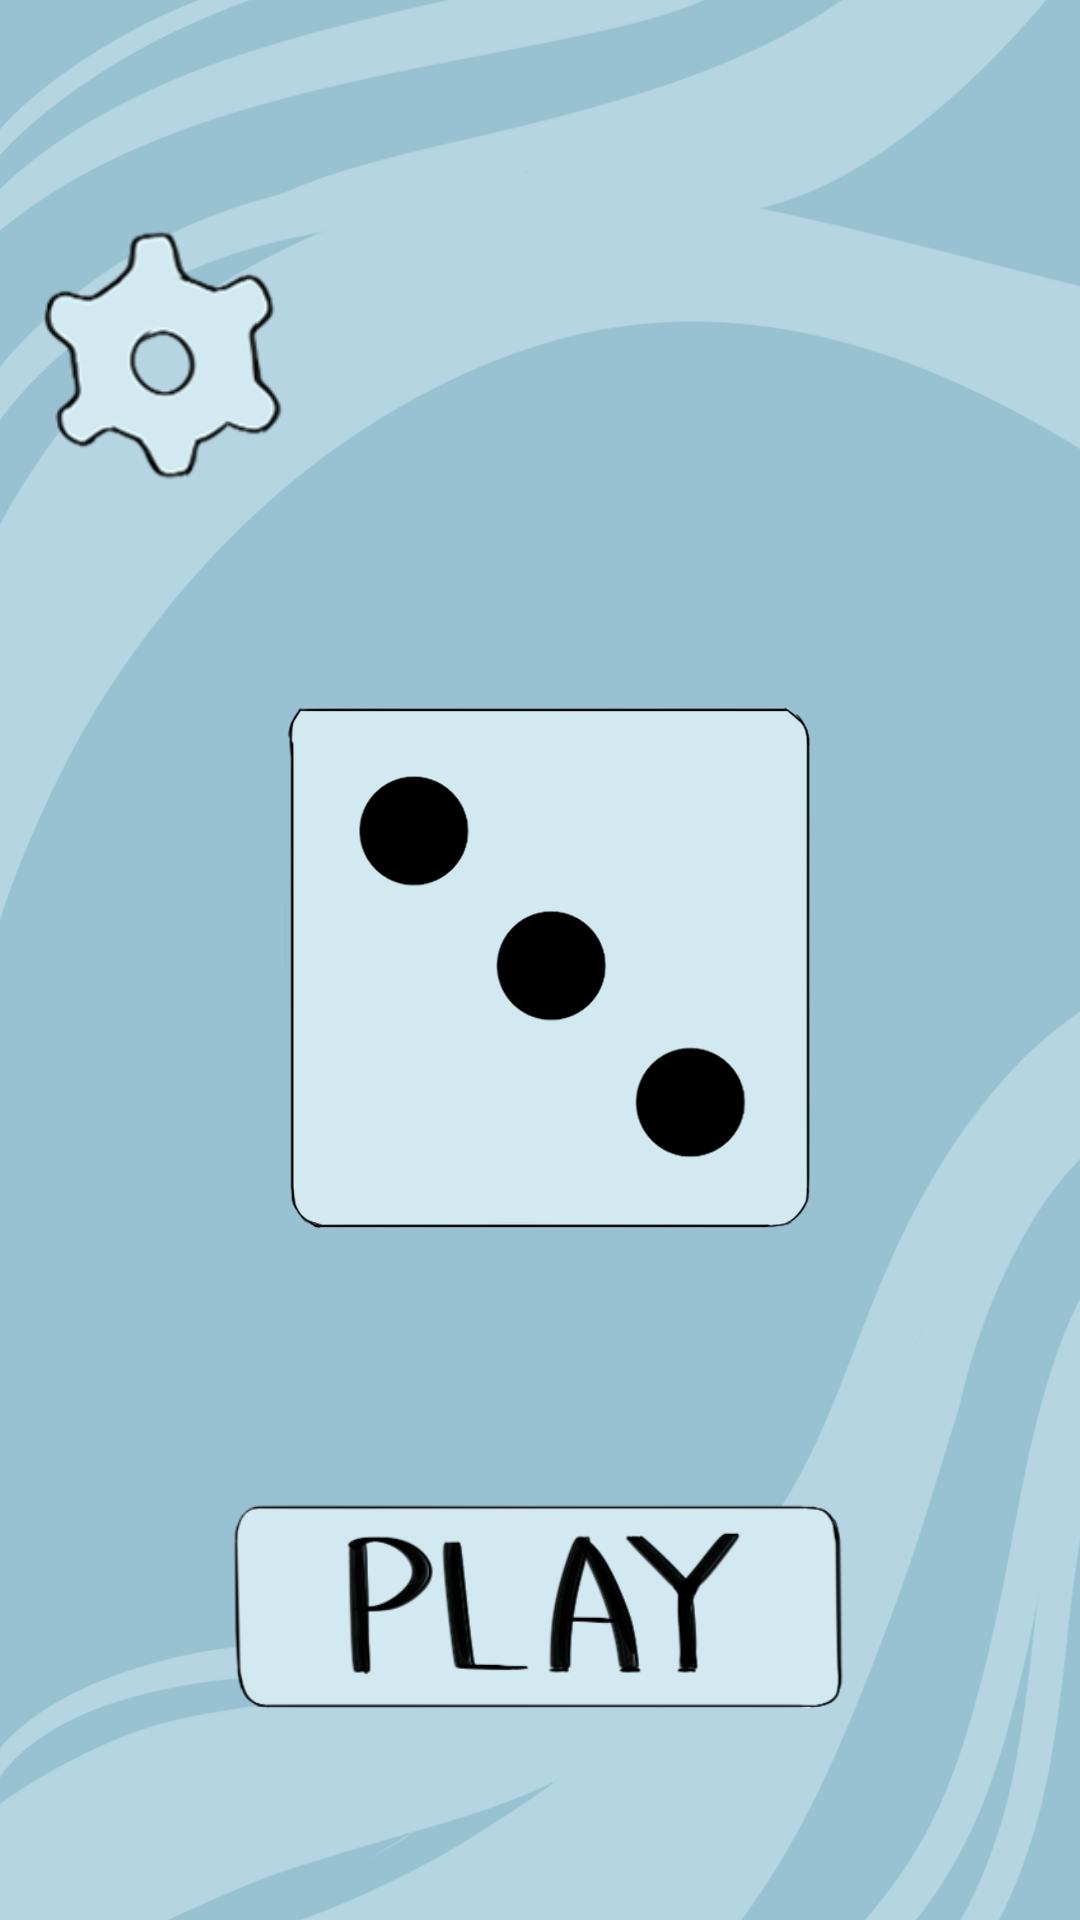

Point at icon controls on the screen. Image size 1080px x 1920px, points as (x,y).
settings: (166,355)
